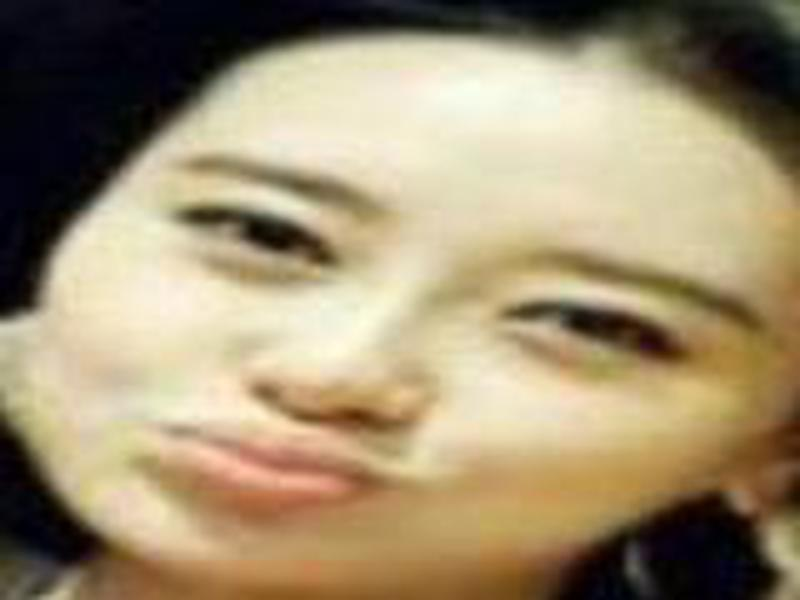without_mask: (21, 36, 800, 594)
